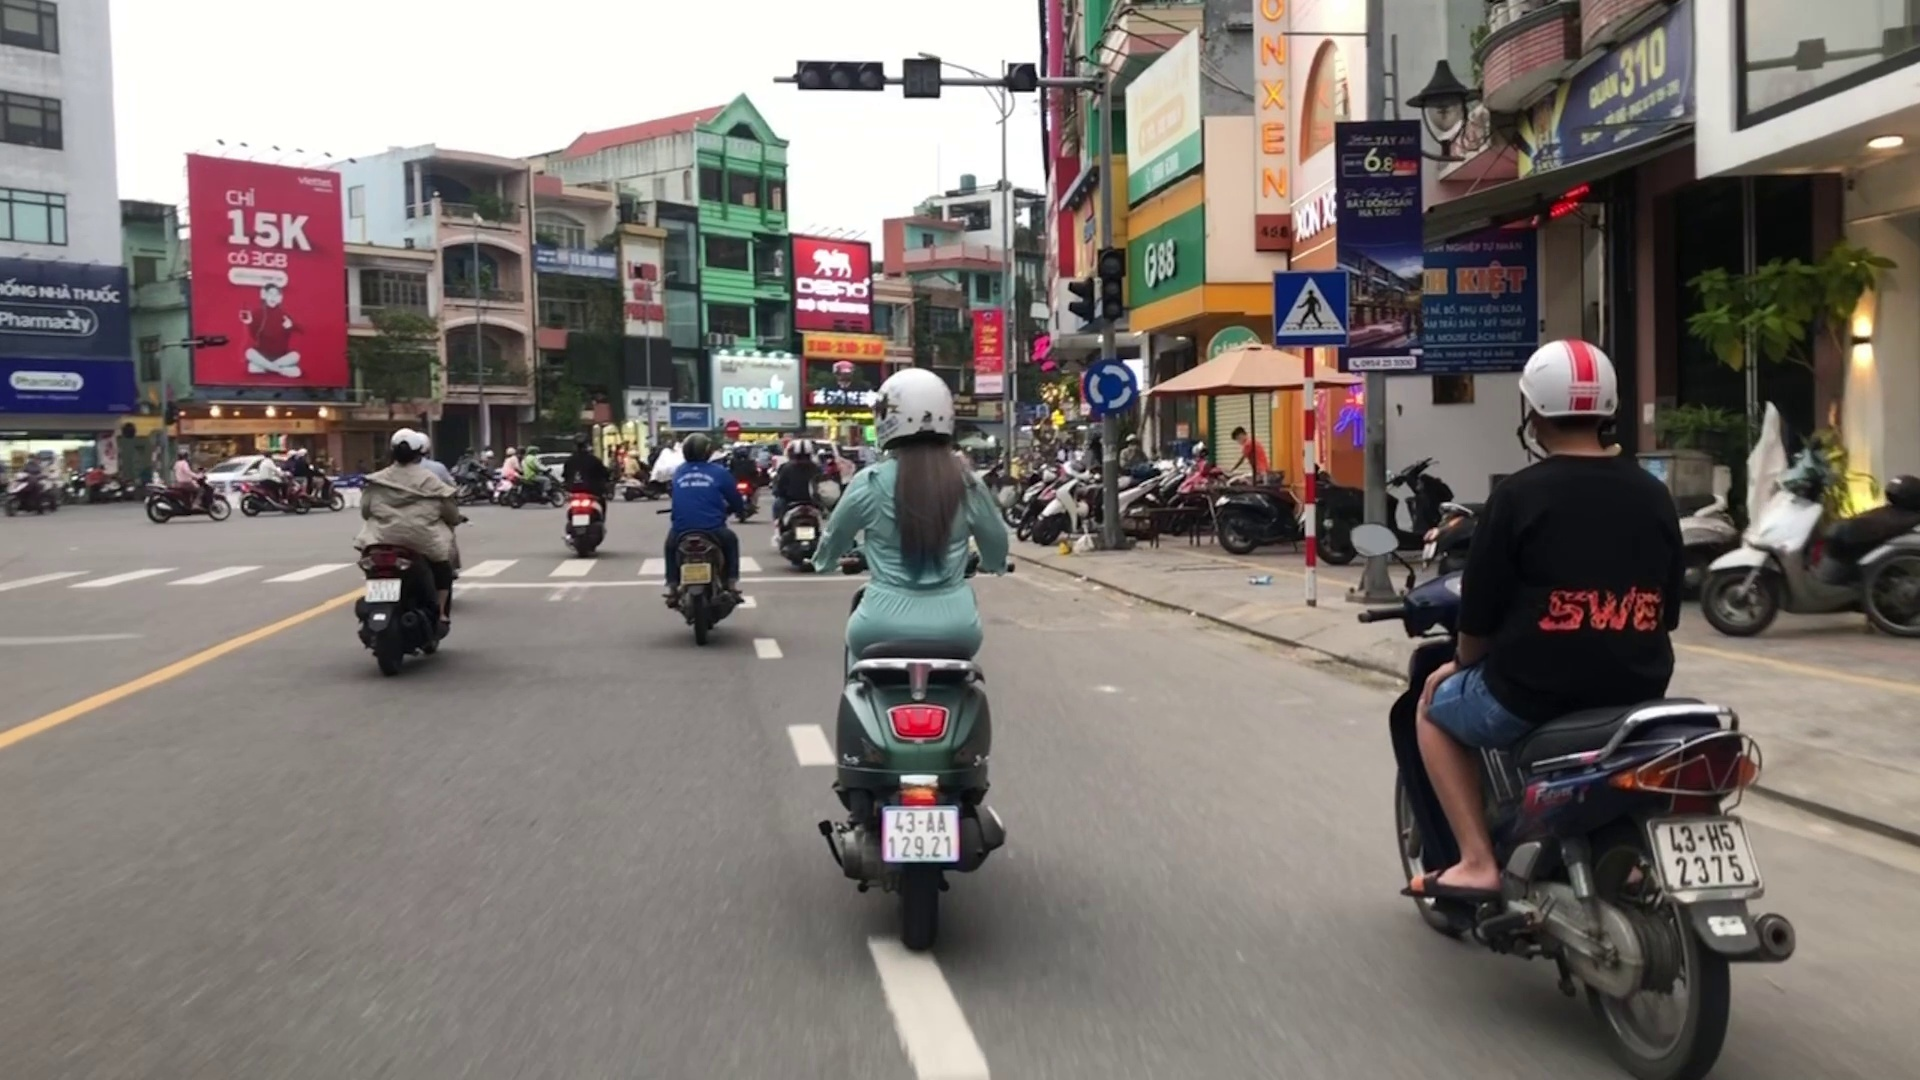Bien khac: (1081, 357, 1138, 411)
Cam di nguoc chieu: (724, 419, 738, 443)
Nguoi di bo: (1269, 268, 1348, 347)
